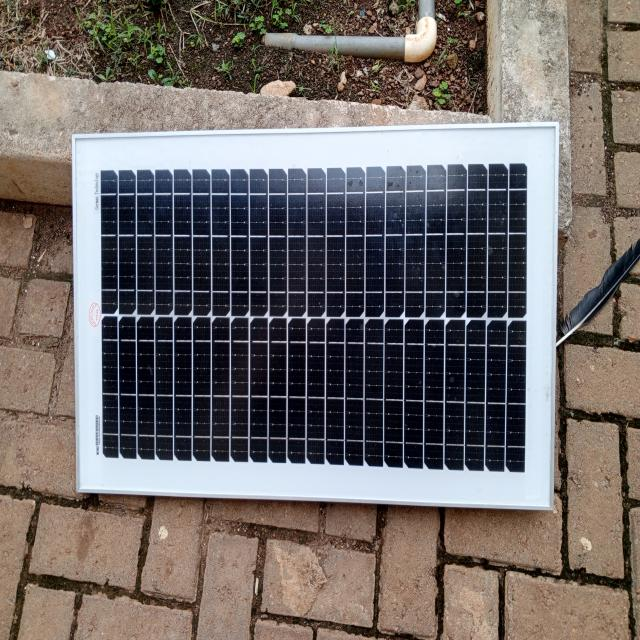Clean: (92, 153, 541, 485)
